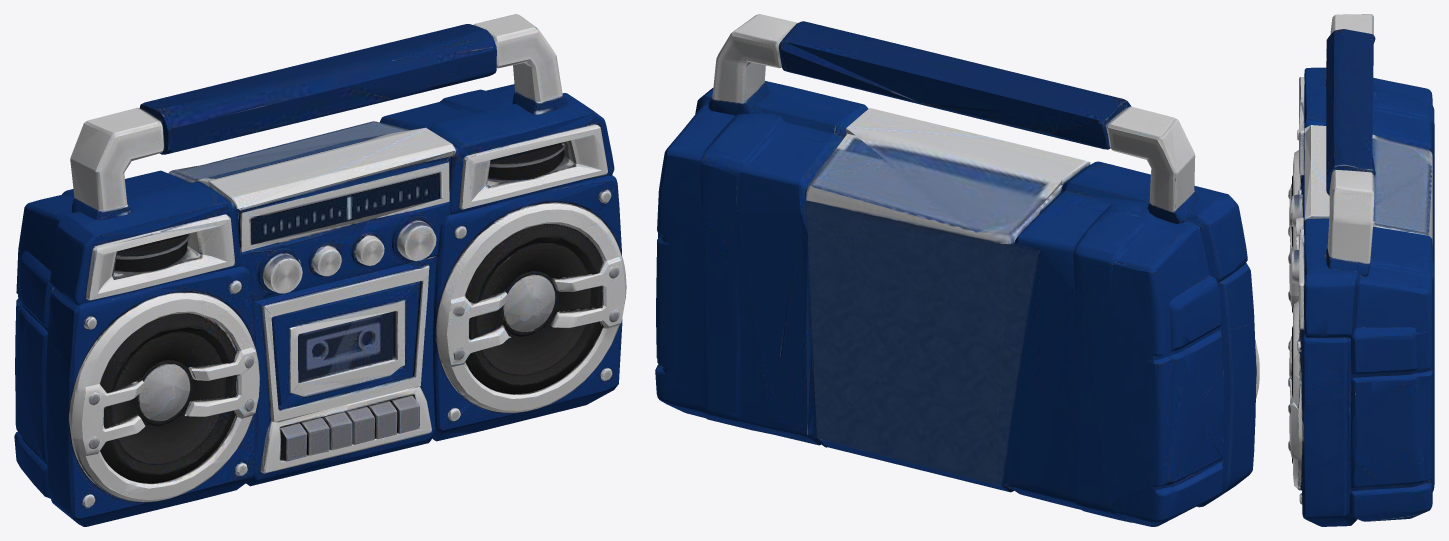
The model's file is p_audio.glb.
The picture shows the model from 3 angles, left to right: view 1: azimuth 30°, elevation 25°; view 2: azimuth 150°, elevation 25°; view 3: azimuth 270°, elevation 25°; orthographic projection. The views are drawn at different scales.
Bounding box in the file's own units: 1.9 × 1.27 × 0.5149.
1 material, 1 textured.
